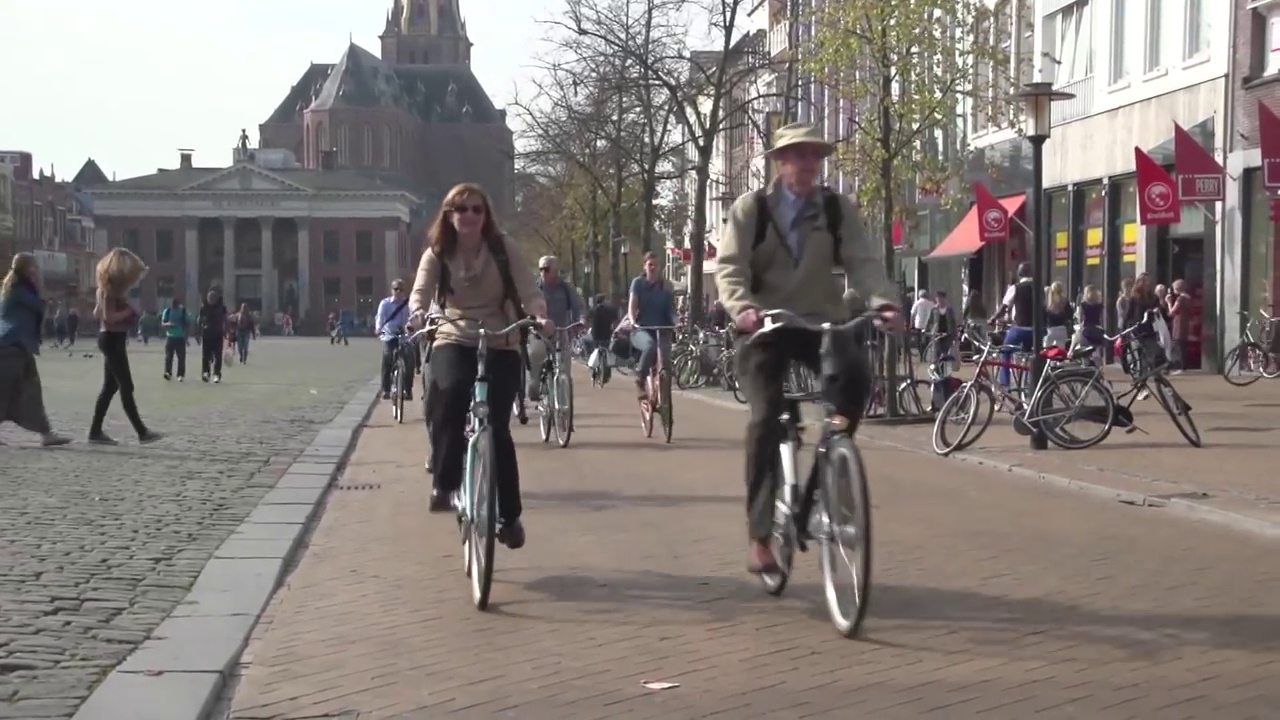cyclist_front: (720, 115, 912, 646), (402, 177, 542, 615), (628, 247, 688, 455), (532, 242, 591, 447), (371, 270, 419, 429)
